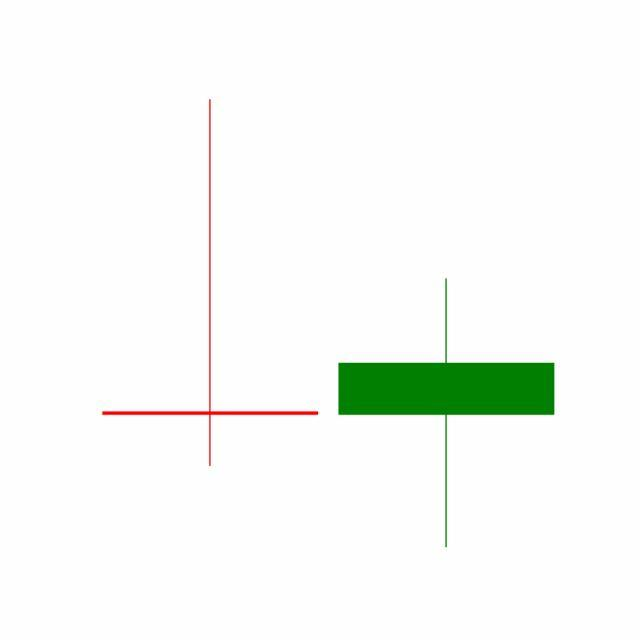Spinning Top: (328, 277, 566, 552)
